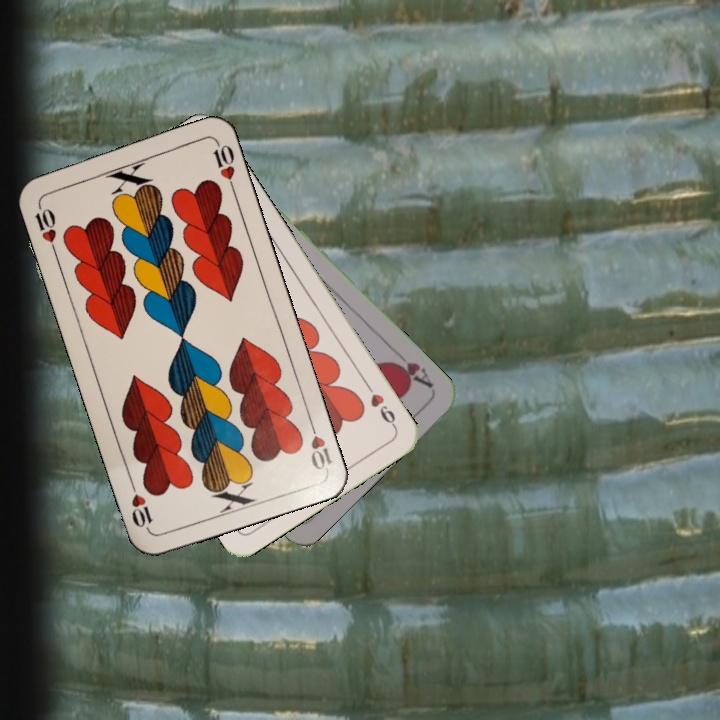H10: (304, 415, 335, 474), (31, 199, 60, 257)
H9: (361, 378, 399, 431)
HA: (386, 345, 436, 391)
